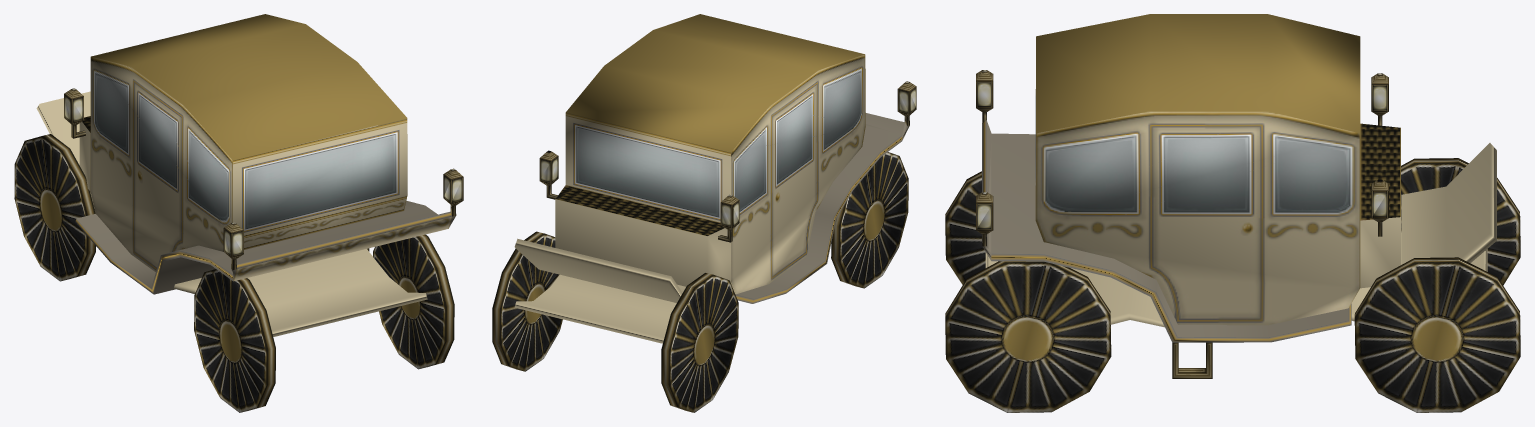
Rendered from oldcarriage.fbx.
3 views of the same model, side by side, from view 1: azimuth 30°, elevation 25°; view 2: azimuth 150°, elevation 25°; view 3: azimuth 270°, elevation 25° (orthographic). The views are drawn at different scales.
Parts seen in each view (by area): view 1: OLD:polySurface30, polySurface23, group1_pCylinder4, pCylinder3_group1, pCylinder1; view 2: OLD:polySurface30, pCylinder3_group1, polySurface23, group1_pCylinder4, pCylinder2; view 3: OLD:polySurface30, pCylinder2, pCylinder1, polySurface23, pCylinder3_group1, group1_pCylinder4.
Part boxes in pixels (left/top/right/bottom): OLD:polySurface30: left=36, top=14, right=427, bottom=336; polySurface23: left=64, top=88, right=463, bottom=294; group1_pCylinder4: left=194, top=269, right=275, bottom=412; pCylinder3_group1: left=14, top=134, right=95, bottom=281; pCylinder1: left=373, top=234, right=454, bottom=369; OLD:polySurface30: left=514, top=14, right=865, bottom=343; pCylinder3_group1: left=661, top=273, right=738, bottom=412; polySurface23: left=539, top=81, right=916, bottom=303; group1_pCylinder4: left=831, top=152, right=908, bottom=288; pCylinder2: left=492, top=231, right=562, bottom=371; OLD:polySurface30: left=985, top=14, right=1496, bottom=327; pCylinder2: left=1354, top=257, right=1520, bottom=412; pCylinder1: left=945, top=261, right=1111, bottom=412; polySurface23: left=976, top=70, right=1388, bottom=378; pCylinder3_group1: left=1401, top=158, right=1520, bottom=285; group1_pCylinder4: left=945, top=171, right=985, bottom=284.
Size of the model in its own units: 0.7492 by 0.8058 by 1.41.
Materials: 1 (1 with a texture image).
